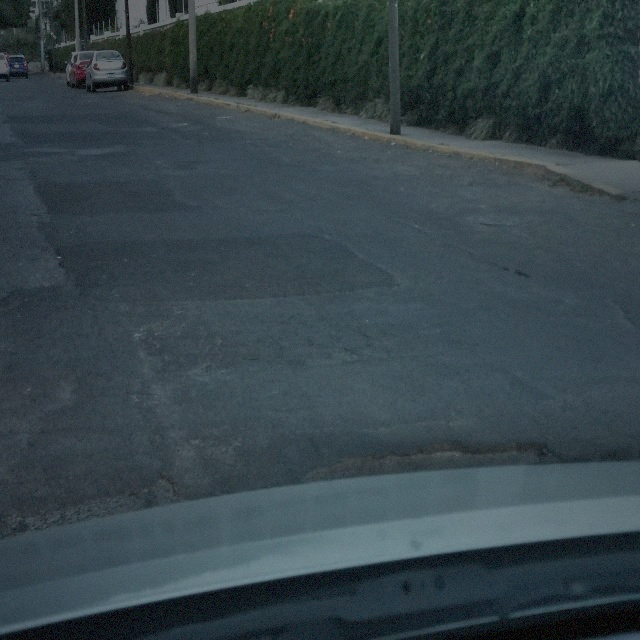pothole: (28, 460, 181, 532), (301, 434, 561, 471)
